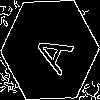A: (25, 25, 74, 76)
